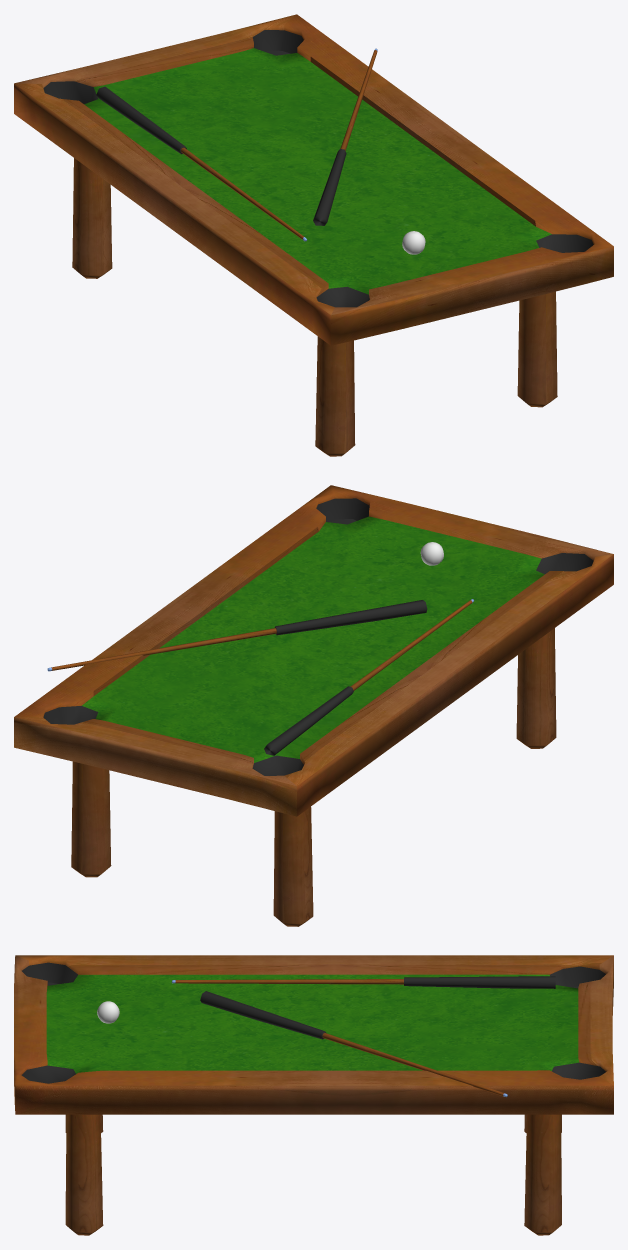
File: Billiards.fbx
The picture shows the model from 3 angles, top to bottom: view 1: azimuth 30°, elevation 25°; view 2: azimuth 150°, elevation 25°; view 3: azimuth 270°, elevation 25°; orthographic projection. The views are drawn at different scales.
Parts seen in each view (by area): view 1: Billiards; view 2: Billiards; view 3: Billiards.
Boxes of the visible parts, x1=… form: Billiards: x1=14, y1=14, x2=613, y2=456; Billiards: x1=14, y1=485, x2=613, y2=926; Billiards: x1=14, y1=955, x2=613, y2=1235.
Size of the model in its own units: 143 by 83.78 by 256.
